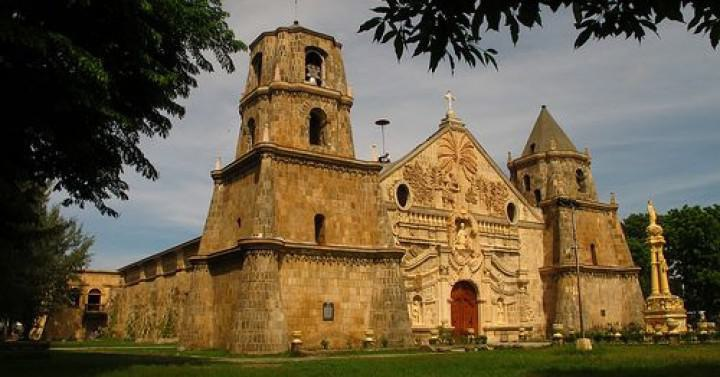miagao_church_miagao_iloilo: (205, 10, 653, 343)
